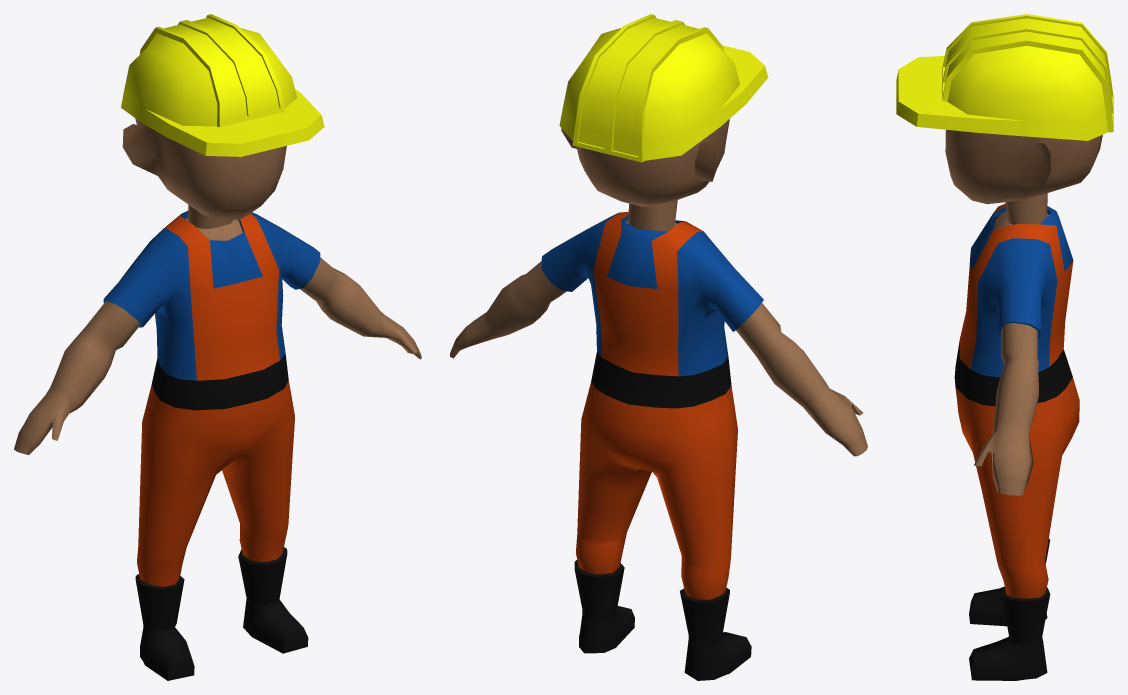
The model's file is Player_v1.fbx.
The picture shows the model from 3 angles, left to right: view 1: azimuth 30°, elevation 25°; view 2: azimuth 150°, elevation 25°; view 3: azimuth 270°, elevation 25°; orthographic projection. The views are drawn at different scales.
Parts seen in each view (by area): view 1: Player; view 2: Player; view 3: Player.
Part boxes in pixels (x1=…): Player: x1=14, y1=14, x2=421, y2=680; Player: x1=450, y1=14, x2=867, y2=680; Player: x1=896, y1=14, x2=1113, y2=680.
Bounding box in the file's own units: 257 × 373 × 119.
